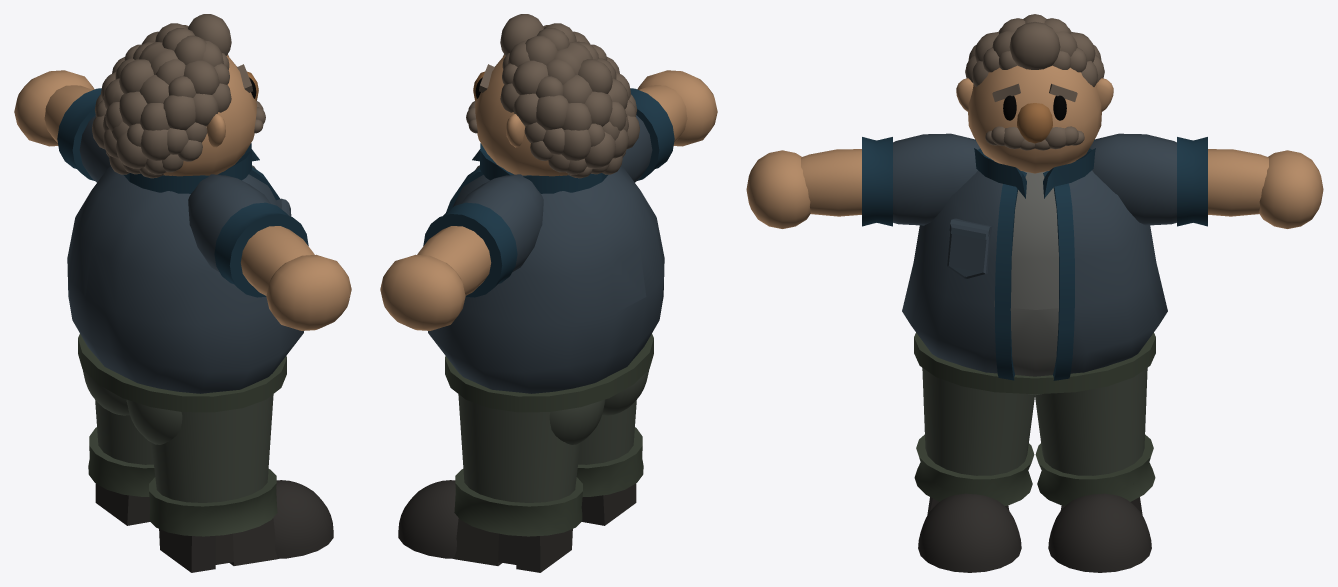
Rendered from FATMAN blue shirt.fbx.
3 renders of one model, left to right at view 1: azimuth 30°, elevation 25°; view 2: azimuth 150°, elevation 25°; view 3: azimuth 270°, elevation 25°, orthographic.
Visible parts, largest first — view 1: pCylinder7; view 2: pCylinder7; view 3: pCylinder7.
Boxes of the visible parts, x1,y1,x2,y2 form: pCylinder7: (14, 14, 351, 572); pCylinder7: (380, 14, 717, 572); pCylinder7: (746, 14, 1323, 572).
Size of the model in its own units: 0.0378 by 0.087 by 0.0897.
